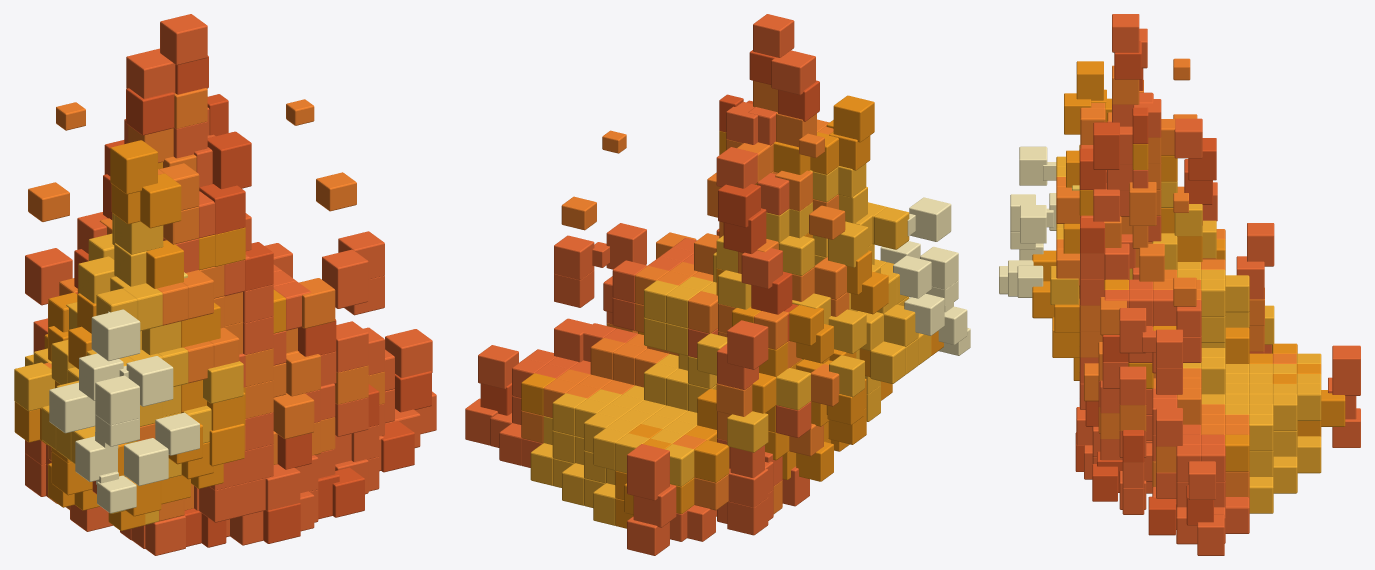
The model's file is SM_Blender_Ember.glb.
3 views of the same model, side by side, from view 1: azimuth 30°, elevation 25°; view 2: azimuth 150°, elevation 25°; view 3: azimuth 270°, elevation 25° (orthographic). The views are drawn at different scales.
Visible parts, largest first — view 1: SM_Blender_Ember; view 2: SM_Blender_Ember; view 3: SM_Blender_Ember.
Boxes of the visible parts, x1,y1,x2,y2 form: SM_Blender_Ember: (14, 14, 436, 555); SM_Blender_Ember: (465, 14, 970, 555); SM_Blender_Ember: (999, 14, 1360, 555).
Bounding box in the file's own units: 1.26 × 1.35 × 1.06.
1 material, 1 textured.
